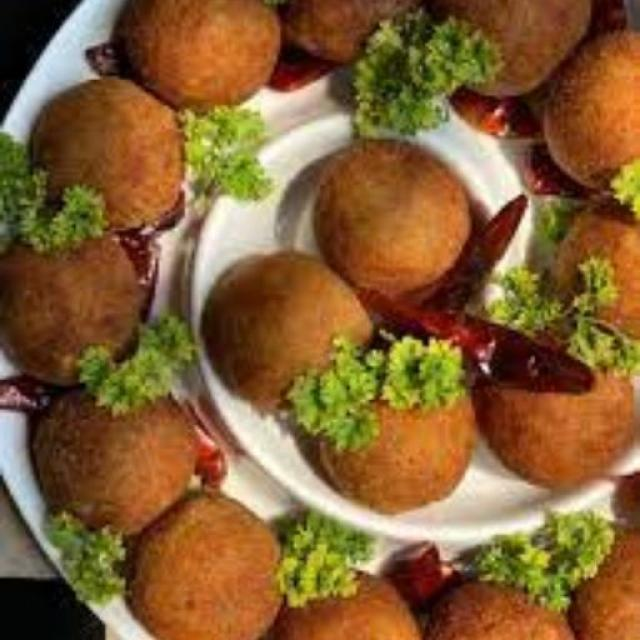Cutlet: (0, 228, 167, 374), (305, 157, 477, 291), (35, 80, 189, 226), (326, 359, 472, 507), (35, 391, 196, 521), (215, 249, 356, 396), (117, 0, 302, 111), (144, 509, 286, 640), (532, 26, 640, 172)
